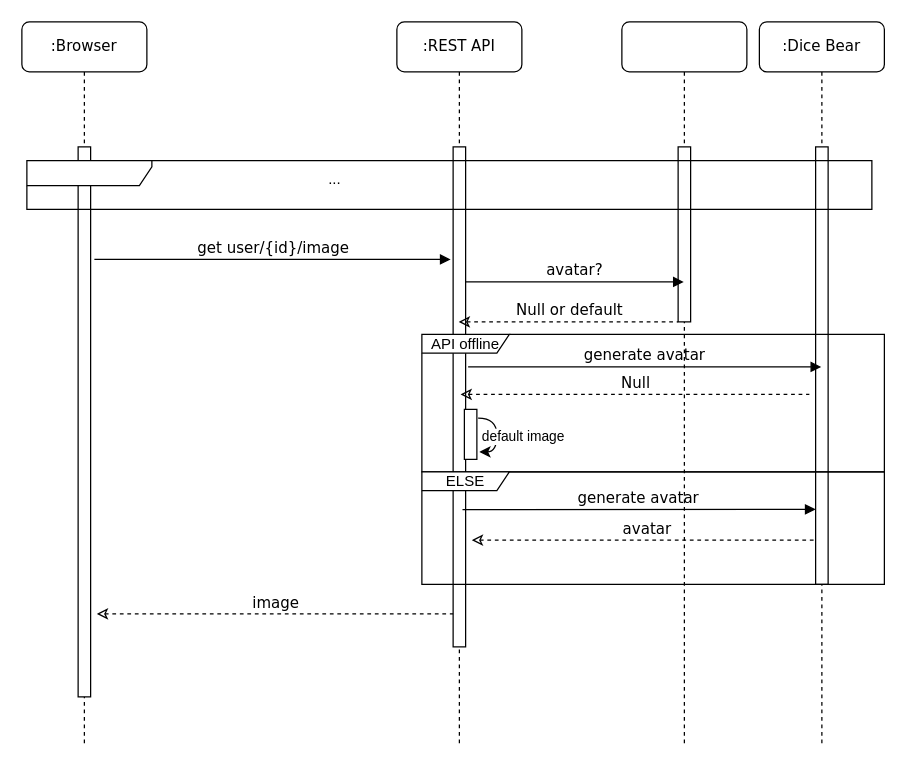
Image size: 906x769. Some labels were removed from this diagram. Here are the shapes that lost their labels. From the top down, the box of each, then its label:
(26, 159, 872, 209): Login
(621, 21, 747, 747): :Mongo DB
